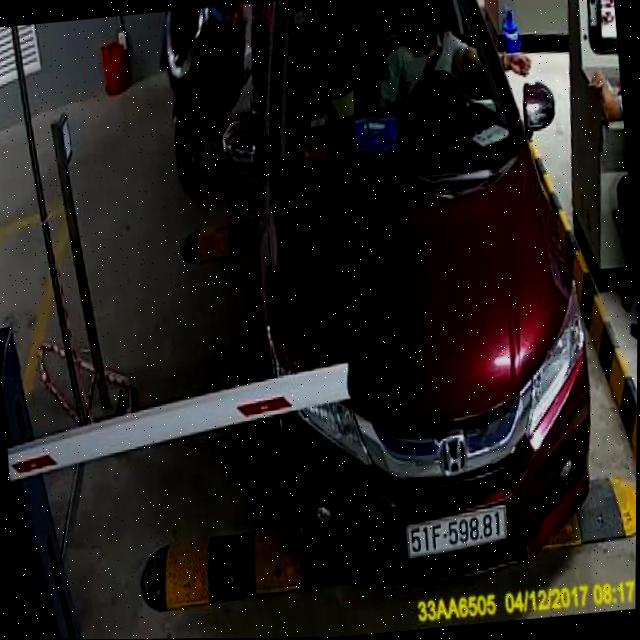car: (204, 0, 619, 603)
motorcycle: (135, 4, 256, 199)
plate: (402, 503, 511, 558)
